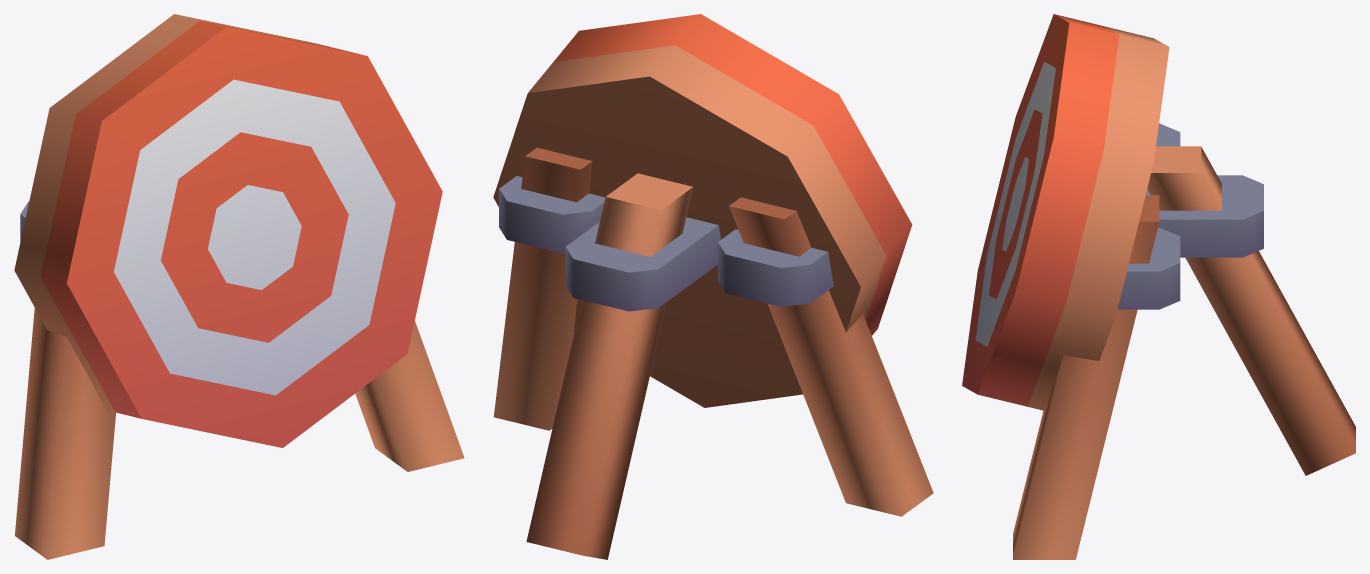
File: target.obj
3 views of the same model, side by side, from view 1: azimuth 30°, elevation 25°; view 2: azimuth 150°, elevation 25°; view 3: azimuth 270°, elevation 25° (orthographic). The views are drawn at different scales.
Visible parts, largest first — view 1: target; view 2: target; view 3: target.
Boxes of the visible parts, left/top/right/bottom form: target: left=14, top=14, right=464, bottom=559; target: left=493, top=14, right=933, bottom=559; target: left=962, top=14, right=1355, bottom=559.
Bounding box in the file's own units: 0.55 × 0.5806 × 0.4711.
Materials: 1 (1 with a texture image).
